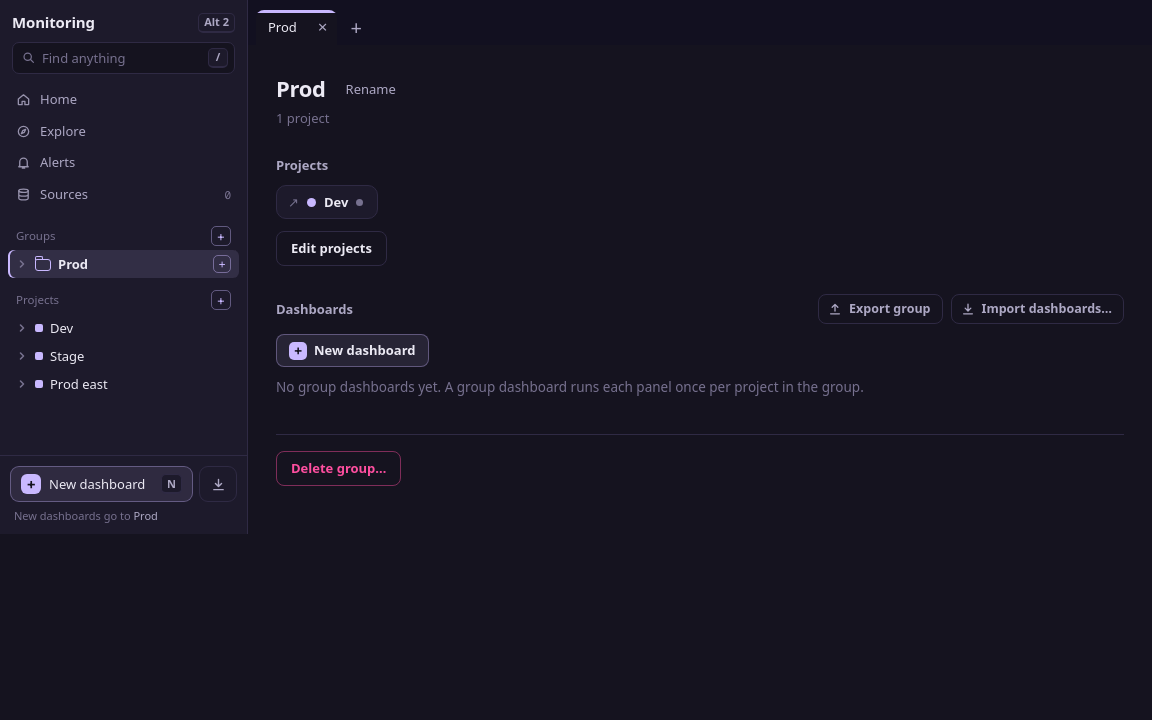
Test case: Groups › renames a group
The image size is (1152, 720).
Step 1. Click the button "Rename" → [371, 89], box [336,74,406,104]
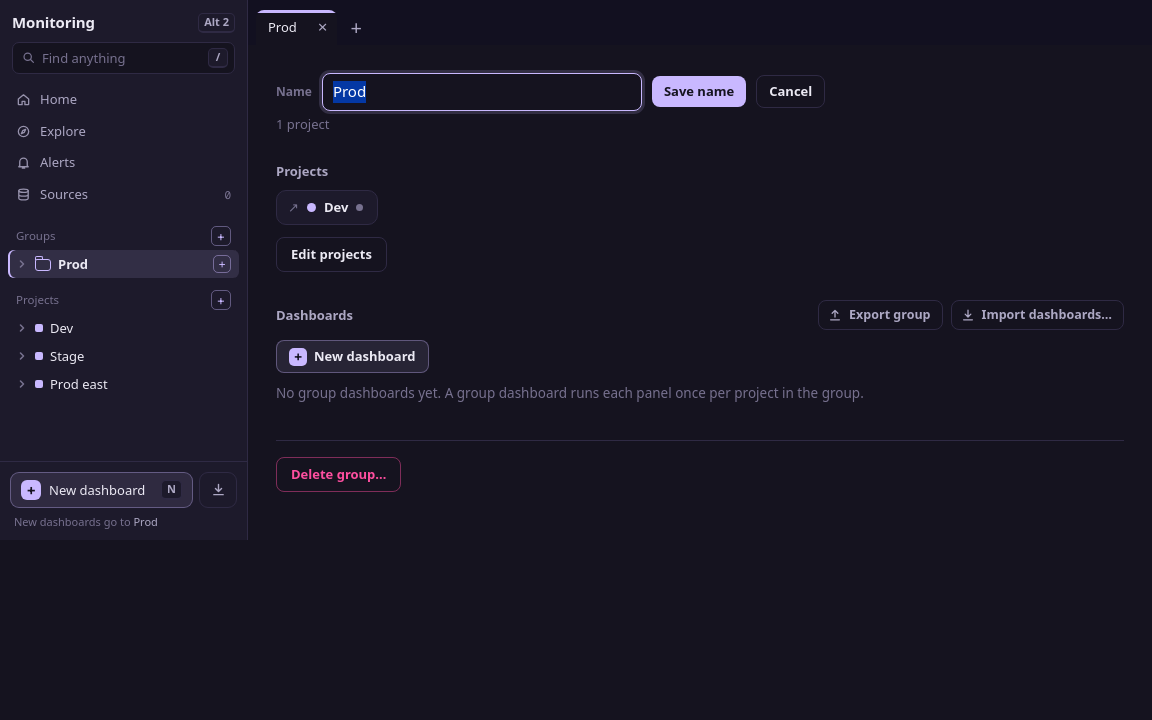
Step 2. Replace the text in the field labelled "Name" with "Live" → [482, 92], box [322,73,642,111]
Then press Enter
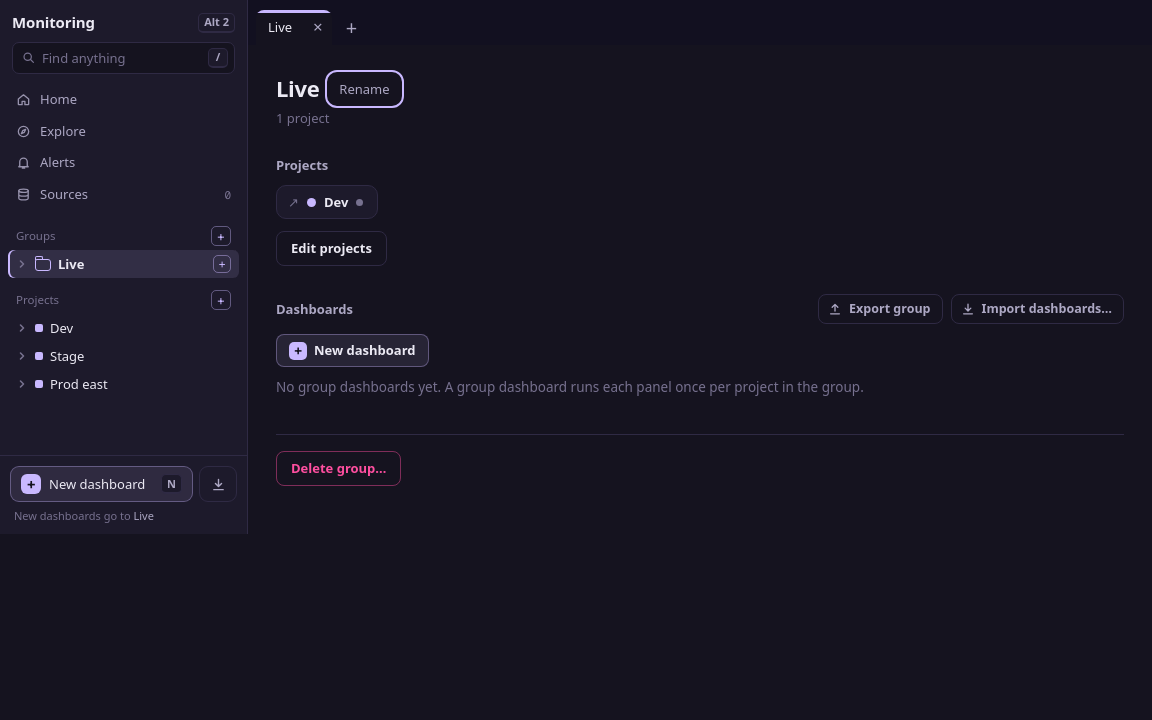
Expected: the text "Live" below "Groups" is shown, [58,255,84,273]
Expected: the heading "Live" is shown, [276,73,319,105]
